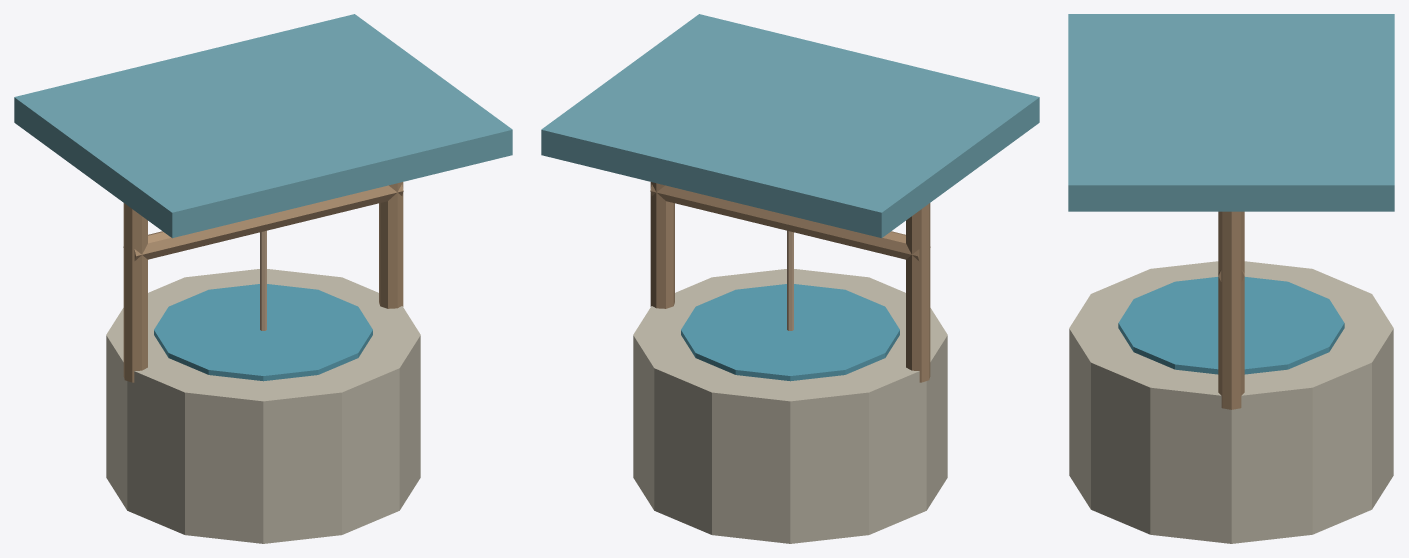
The model's file is town_well.glb.
The picture shows the model from 3 angles, left to right: view 1: azimuth 30°, elevation 25°; view 2: azimuth 150°, elevation 25°; view 3: azimuth 270°, elevation 25°; orthographic projection. The views are drawn at different scales.
Parts seen in each view (by area): view 1: well canopy, well stone ring, well inner water, well turning axle, well canopy post, well canopy post.001, well bucket rope; view 2: well canopy, well stone ring, well inner water, well turning axle, well canopy post, well canopy post.001, well bucket rope; view 3: well canopy, well stone ring, well inner water, well canopy post.001.
Part boxes in pixels (x1,y1,x2,y2): well canopy: [14, 14, 512, 238]; well stone ring: [106, 269, 420, 543]; well inner water: [154, 284, 372, 381]; well turning axle: [123, 184, 403, 260]; well canopy post: [123, 203, 147, 382]; well canopy post.001: [379, 182, 403, 308]; well bucket rope: [260, 230, 266, 330]; well canopy: [541, 14, 1039, 238]; well stone ring: [633, 269, 947, 543]; well inner water: [681, 284, 899, 381]; well turning axle: [650, 184, 930, 260]; well canopy post: [906, 203, 930, 382]; well canopy post.001: [650, 182, 674, 308]; well bucket rope: [787, 230, 793, 330]; well canopy: [1068, 14, 1394, 211]; well stone ring: [1069, 261, 1393, 543]; well inner water: [1118, 277, 1344, 374]; well canopy post.001: [1218, 211, 1244, 409].
Size of the model in its own units: 2.8 by 2.86 by 2.25.
